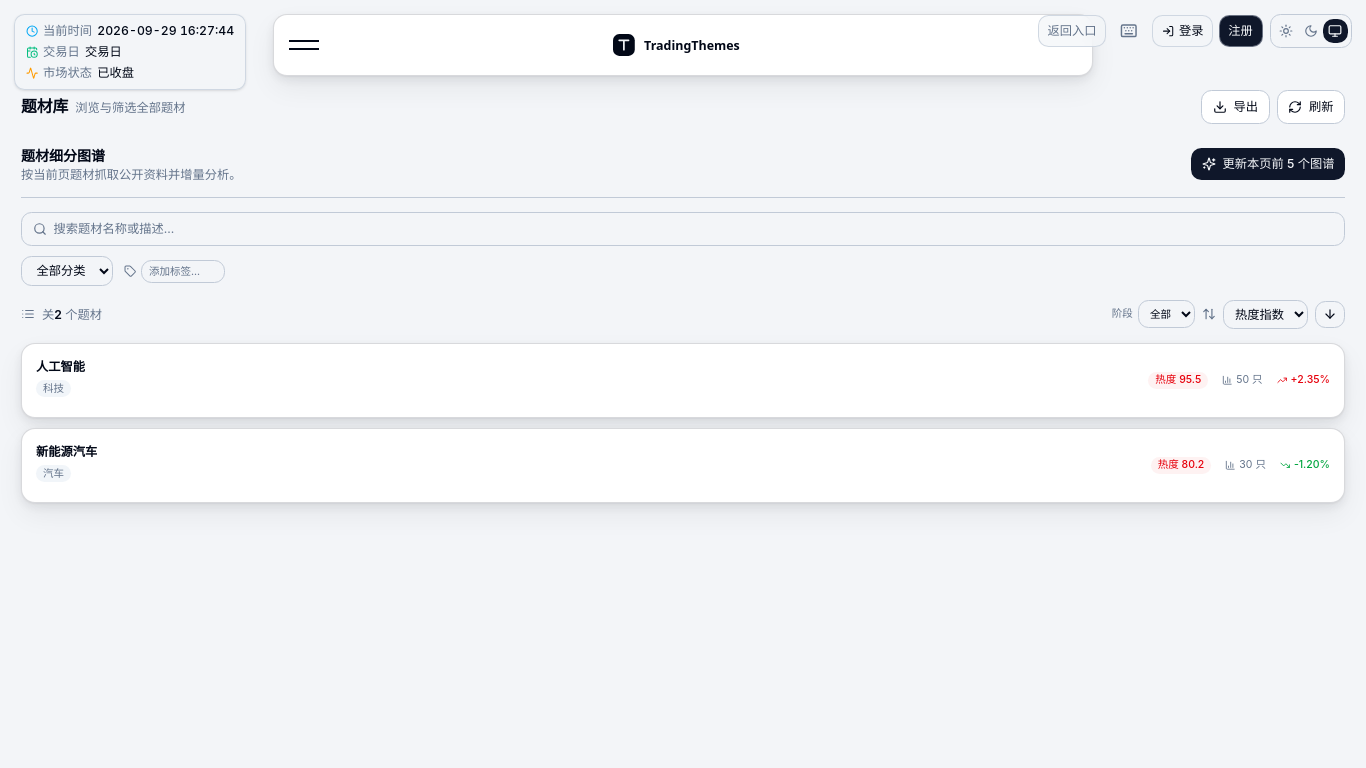
Test: ThemeLibrary › 逐个更新图谱并展示成功、失败和最终汇总
The width and height of the screenshot is (1366, 768).
Step 1. Click the button "更新本页前 5 个图谱" → (1268,164), box top-left (1191, 148), bottom-right (1345, 180)
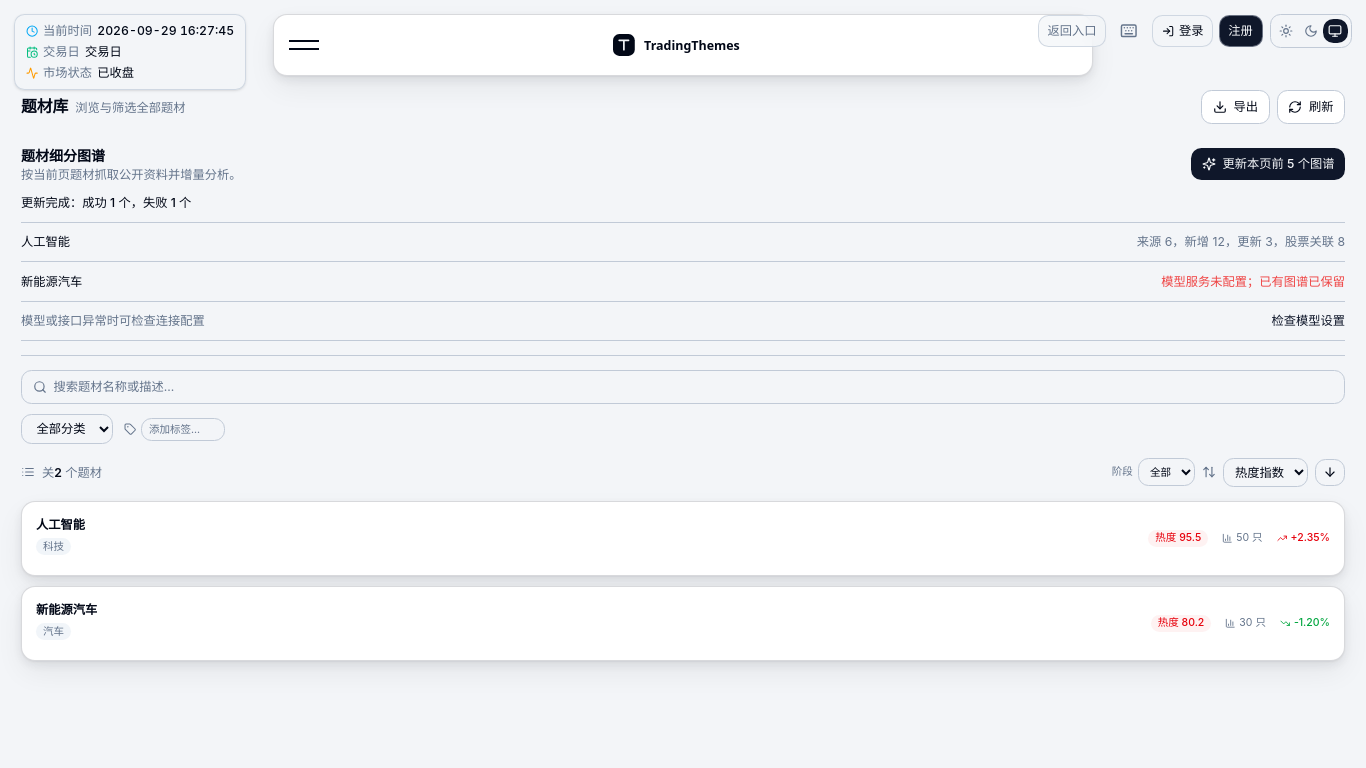
Expected: the text "来源 6，新增 12，更新 3，股票关联 8" is shown, top-left (1137, 234), bottom-right (1345, 249)
Expected: the text "模型服务未配置；已有图谱已保留" is shown, top-left (1161, 274), bottom-right (1345, 288)
Expected: the text "更新完成：成功 1 个，失败 1 个" is shown, top-left (21, 194), bottom-right (191, 210)
